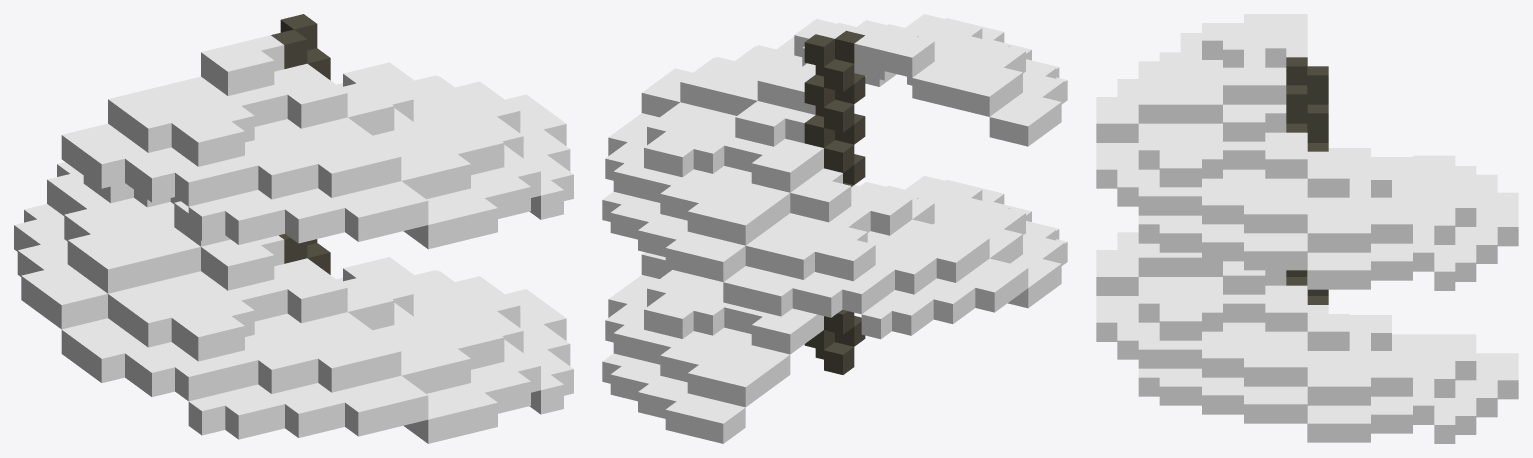
The model's file is scout_heli_rotor.obj.
3 views of the same model, side by side, from view 1: azimuth 30°, elevation 25°; view 2: azimuth 150°, elevation 25°; view 3: azimuth 270°, elevation 25° (orthographic). The views are drawn at different scales.
Bounding box in the file's own units: 2 × 1.6 × 2.
Materials: 1 (1 with a texture image).
